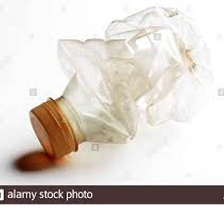bottle: (21, 4, 219, 163)
